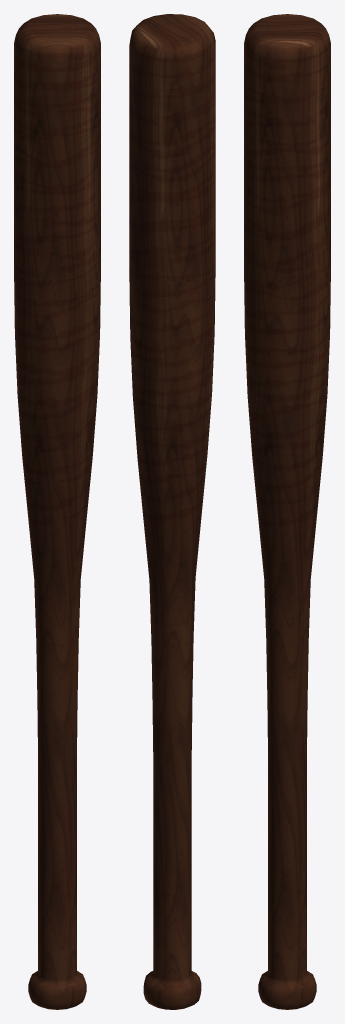
File: Lucille.fbx
3 views of the same model, side by side, from view 1: azimuth 90°, elevation 25°; view 2: azimuth 210°, elevation 25°; view 3: azimuth 270°, elevation 25° (orthographic).
Visible parts, largest first — view 1: polySurface1; view 2: polySurface1; view 3: polySurface1.
Boxes of the visible parts, x1,y1,x2,y2 form: polySurface1: (14,14,100,1009); polySurface1: (129,14,215,1009); polySurface1: (244,14,330,1009).
Bounding box in the file's own units: 34.15 × 422 × 34.15.
Materials: 1 (1 with a texture image).
